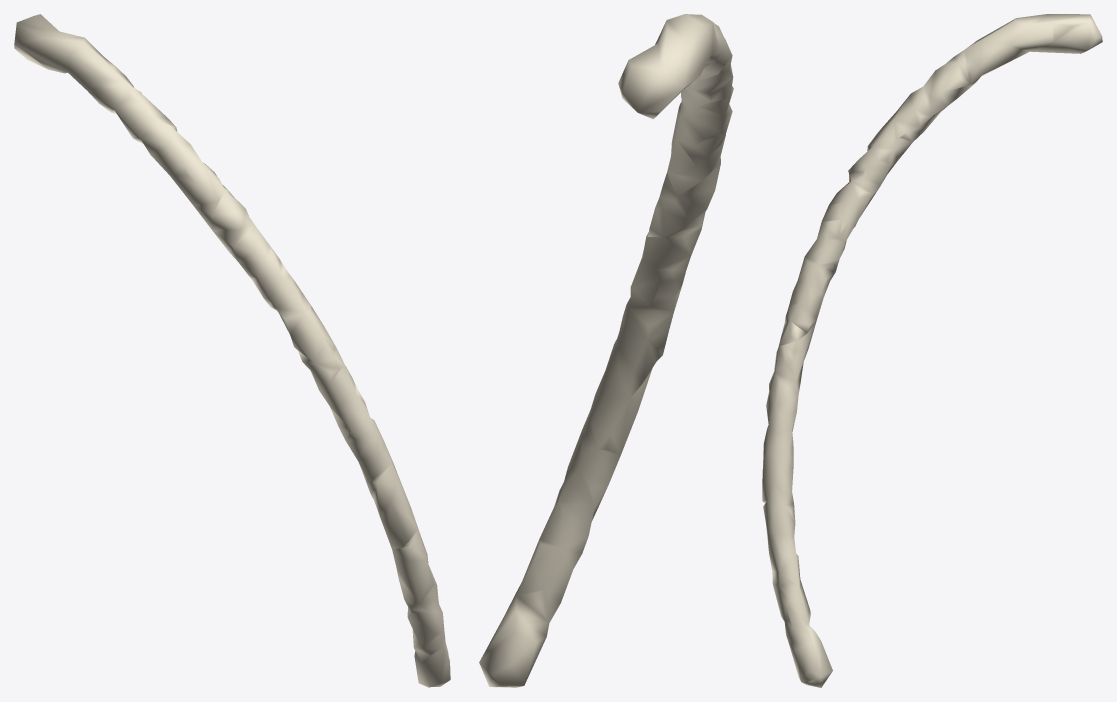
The model's file is rib_12_l.glb.
The picture shows the model from 3 angles, left to right: view 1: azimuth 30°, elevation 25°; view 2: azimuth 150°, elevation 25°; view 3: azimuth 270°, elevation 25°; orthographic projection. The views are drawn at different scales.
Visible parts, largest first — view 1: geometry_0; view 2: geometry_0; view 3: geometry_0.
Part boxes in pixels (left/top/right/bottom): geometry_0: left=14, top=14, right=450, bottom=687; geometry_0: left=479, top=14, right=733, bottom=687; geometry_0: left=762, top=14, right=1102, bottom=687.
Size of the model in its own units: 0.3694 by 0.7578 by 0.4179.
